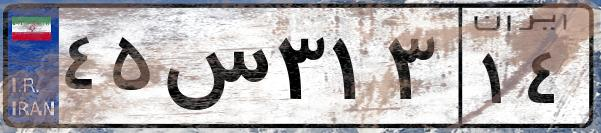1: (330, 28, 385, 110), (475, 38, 525, 113)
3: (270, 28, 330, 110), (385, 28, 445, 110)
4: (57, 26, 110, 100), (525, 38, 570, 115)
5: (110, 28, 158, 98)
س: (158, 20, 270, 120)
